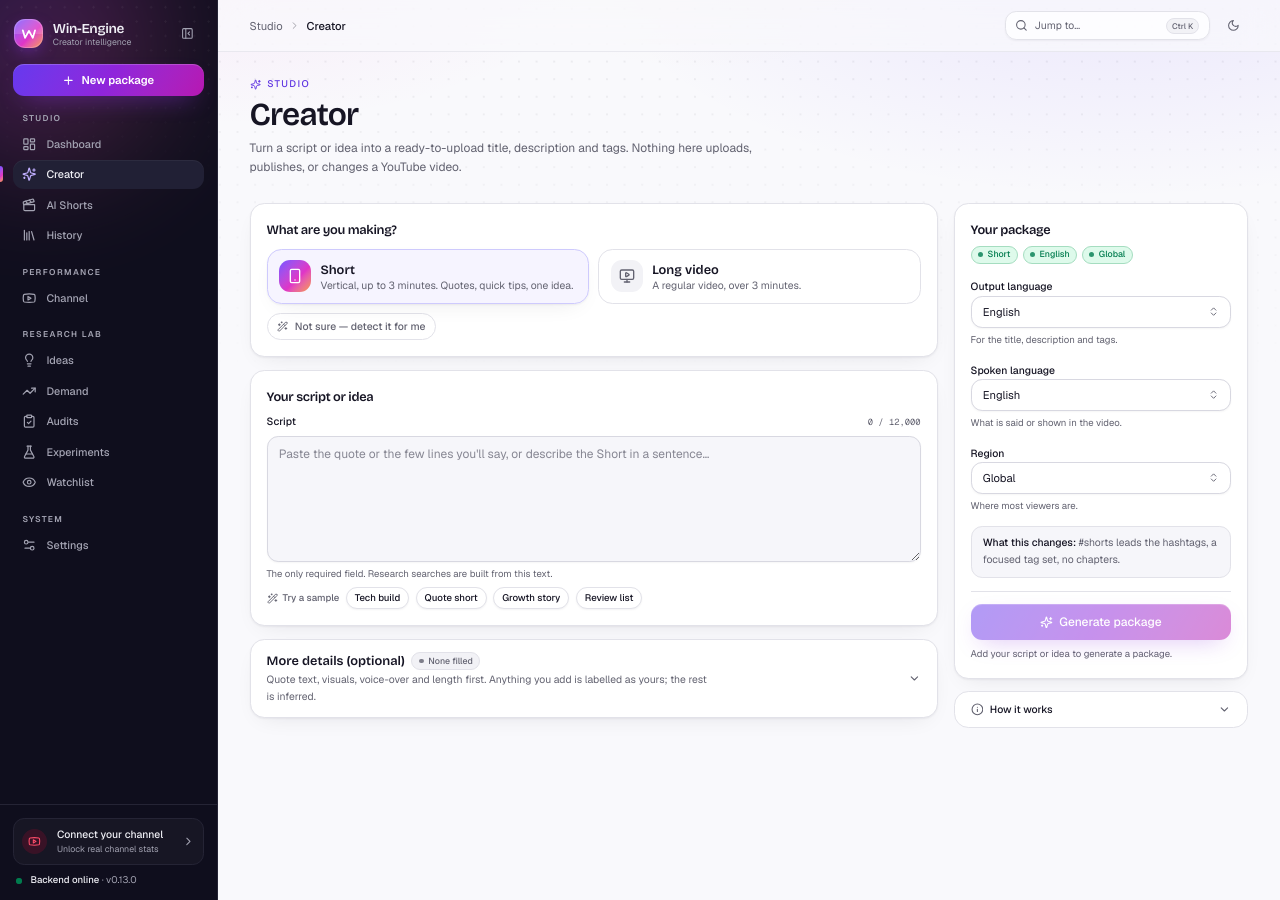
App shell › loads a sample idea into the script field
Click the button "Quote short" at {"x": 451, "y": 598}, box x1=416 y1=587 x2=487 y2=610
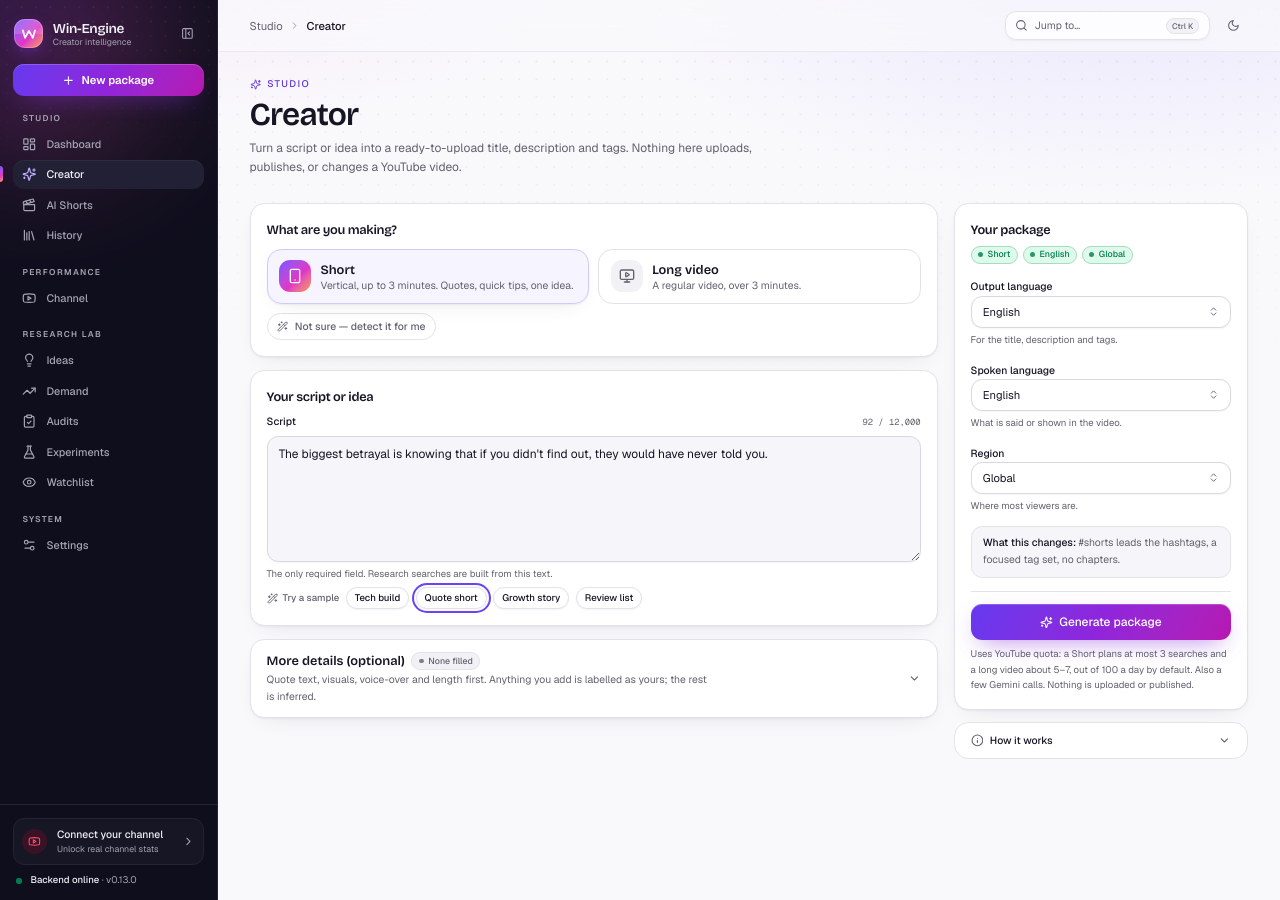
Now the text box labelled "Script" holds "The biggest betrayal is knowing that if you didn't find out, they would have never told you.", box x1=267 y1=436 x2=921 y2=562
